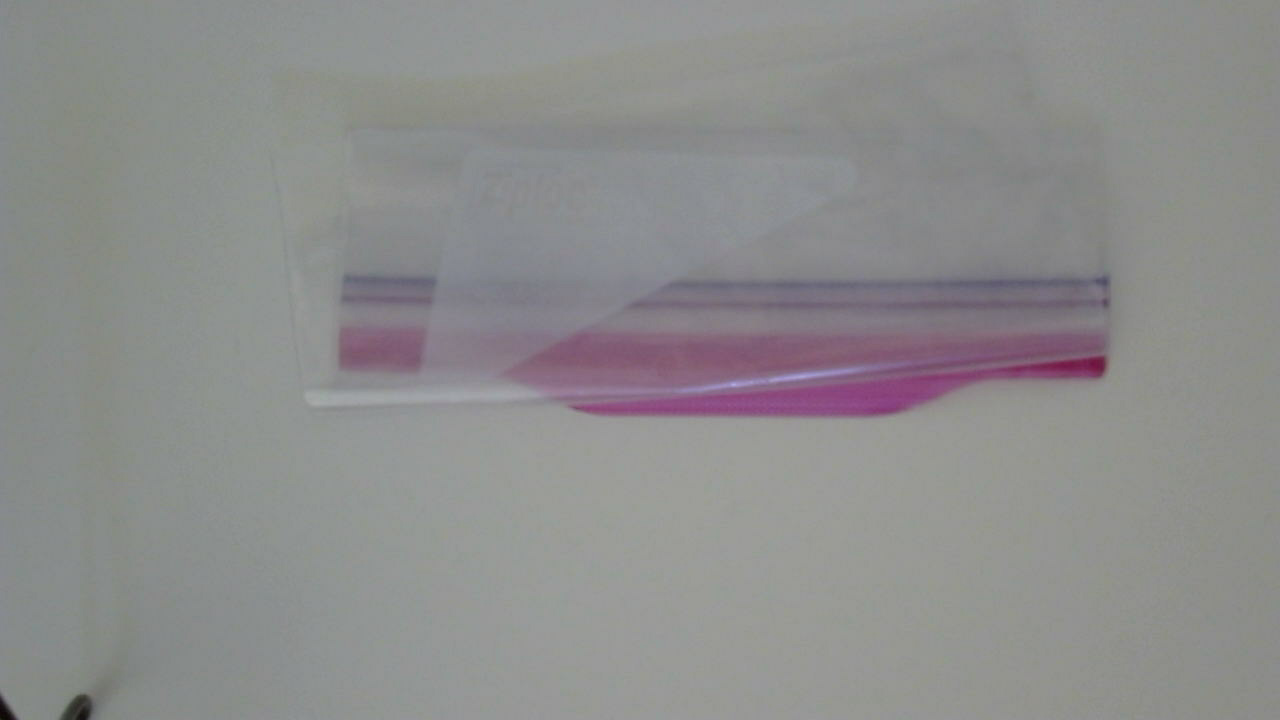Plastic Bag: (289, 24, 1156, 465)
